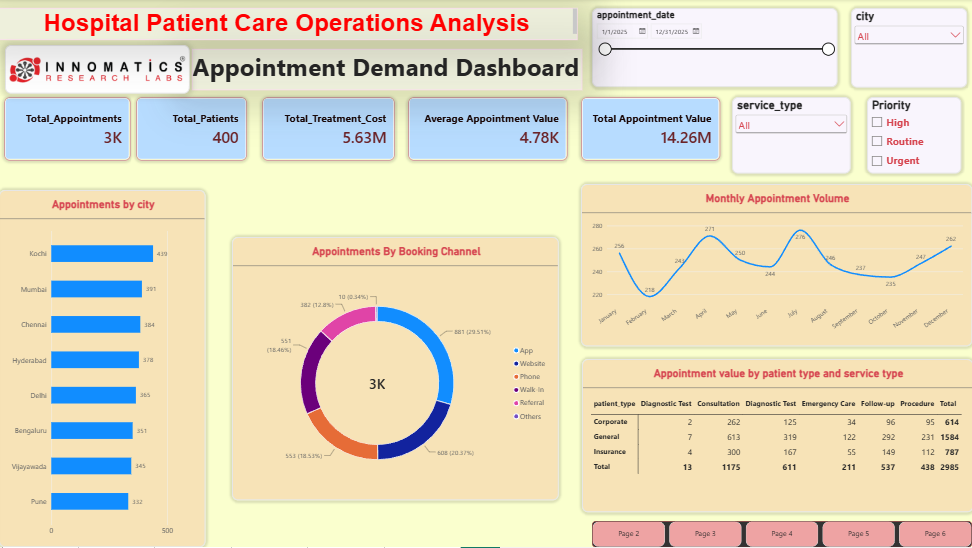

The dashboard page shown, as its layout file describes it:
{"tool":"powerbi","page":{"name":"Page 1","canvas":[1920,1080],"ordinal":0},"visuals":[{"type":"cardVisual","fields":{"Data":["treatments.Total_Appointments"]},"box":[10.3,194.1,249.8,125.9],"z":0},{"type":"cardVisual","fields":{"Data":["treatments.Total_Patients"]},"box":[269.6,194,219.2,126],"z":1000},{"type":"cardVisual","fields":{"Data":["appointments.Total_Treatment_Cost"]},"box":[519.1,194,262,126],"z":2000},{"type":"cardVisual","fields":{"Data":["treatments.Average Appointment Value"]},"box":[806.3,194,315,126],"z":3000},{"type":"clusteredBarChart","title":"Appointments by city","fields":{"Category":["patients.city"],"Y":["treatments.Total_Appointments"]},"box":[0,376.4,407.2,704],"z":4000},{"type":"donutChart","title":"Appointments By Booking Channel","fields":{"Category":["appointments.booking_channel"],"Y":["treatments.Total_Appointments"]},"box":[459.7,468.7,644.2,519.4],"z":5000},{"type":"lineChart","title":"Monthly Appointment Volume","fields":{"Category":["date_table.Date.Variation.Date Hierarchy.Month"],"Y":["treatments.Total_Appointments"]},"box":[1147.3,363.7,771,320],"z":6000},{"type":"slicer","fields":{"Values":["appointments.appointment_date"]},"box":[1169.1,17.6,483.8,156.2],"z":7000},{"type":"slicer","fields":{"Values":["patients.city"]},"box":[1678.5,18.6,229.2,156.9],"z":8000},{"type":"pivotTable","title":"Appointment value by patient type and service type","fields":{"Columns":["appointments.service_type"],"Rows":["patients.patient_type"],"Values":["treatments.Total_Appointments"]},"box":[1149.1,709.4,770.9,302.2],"z":9000},{"type":"textbox","box":[380,97.7,769.1,81.4],"z":10000},{"type":"cardVisual","fields":{"Data":["treatments.Total Appointment Value"]},"box":[1146.5,194,274.6,126],"z":11000},{"type":"slicer","fields":{"Values":["appointments.service_type"]},"box":[1444.1,193.6,234.3,151.2],"z":12000},{"type":"slicer","fields":{"Values":["appointments.priority"]},"box":[1710.9,194,186.5,151.2],"z":13000},{"type":"image","box":[10.9,90.5,363.7,95.9],"z":14000},{"type":"pageNavigator","box":[1169,1027.9,749.2,52.5],"z":15000},{"type":"textbox","box":[0,18.1,1140.1,63.3],"z":16000}]}

Visuals, with their boxes in screenshot pixels (x1, y1, x2, y2), scaled from the page's 1920x1080 canvas onto the 972x548 screenshot:
cardVisual - treatments.Total_Appointments: 5,98,132,162
cardVisual - treatments.Total_Patients: 136,98,247,162
cardVisual - appointments.Total_Treatment_Cost: 263,98,395,162
cardVisual - treatments.Average Appointment Value: 408,98,568,162
"Appointments by city" clusteredBarChart: 0,191,206,547
"Appointments By Booking Channel" donutChart: 233,238,559,501
"Monthly Appointment Volume" lineChart: 581,185,971,347
slicer - appointments.appointment_date: 592,9,837,88
slicer - patients.city: 850,9,966,89
"Appointment value by patient type and service type" pivotTable: 582,360,971,513
textbox: 192,50,582,91
cardVisual - treatments.Total Appointment Value: 580,98,719,162
slicer - appointments.service_type: 731,98,850,175
slicer - appointments.priority: 866,98,961,175
image: 6,46,190,95
pageNavigator: 592,522,971,547
textbox: 0,9,577,41
